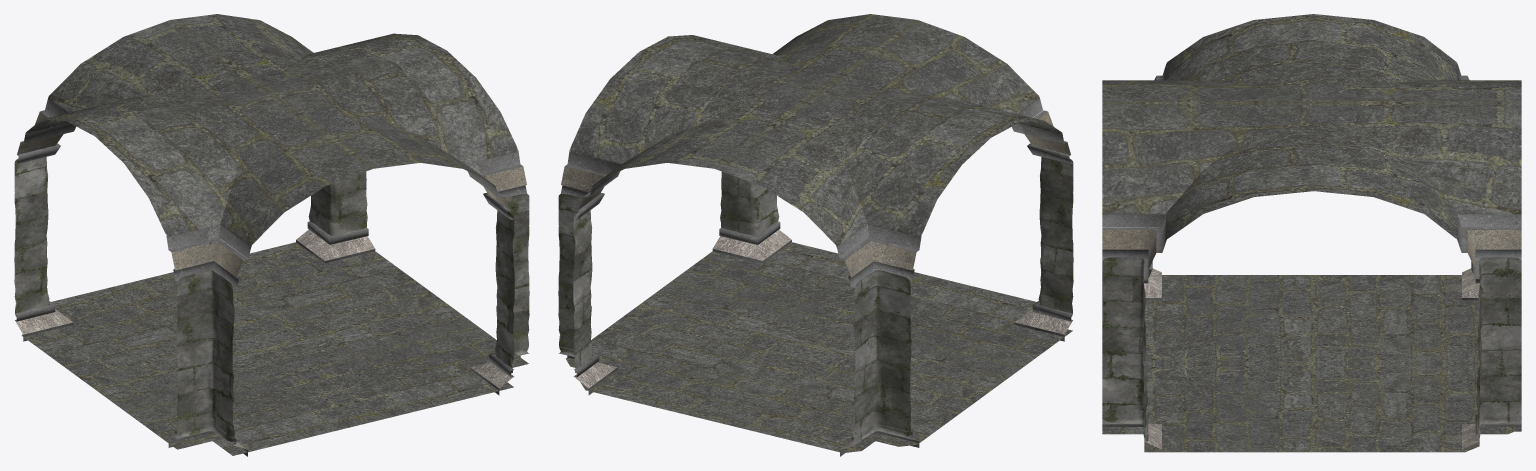
Rendered from Short Hallway.fbx.
The picture shows the model from 3 angles, left to right: view 1: azimuth 30°, elevation 25°; view 2: azimuth 150°, elevation 25°; view 3: azimuth 270°, elevation 25°; orthographic projection. The views are drawn at different scales.
Visible parts, largest first — view 1: Plane.269; view 2: Plane.269; view 3: Plane.269.
Boxes of the visible parts, box(x1,y1,x2,y2) form: Plane.269: box(14, 14, 529, 456); Plane.269: box(558, 14, 1073, 456); Plane.269: box(1102, 14, 1521, 452).
Size of the model in its own units: 200 by 140 by 200.
